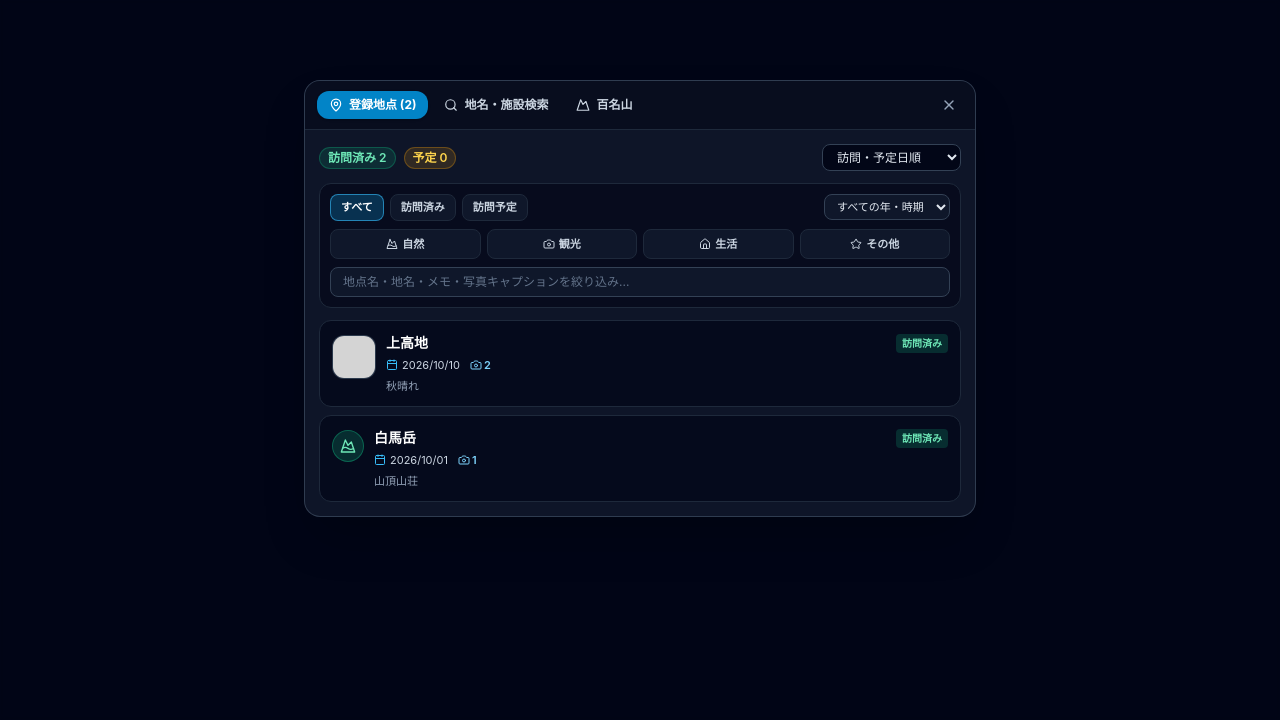
Phase 2 photo UI components › shows local cover thumbnails & photo count badges in SpotNavDrawer without network calls, and filters by caption
This screenshot has width=1280, height=720.
Check: the text "2" is shown, box [484, 357, 491, 374]
Check: the text "1" is shown, box [472, 452, 477, 468]
Filter by photo caption
Step 1. Type "明神池" into the search field named "地点名・住所・メモ・写真キャプションで絞り込み" → point(640, 282), box [330, 267, 950, 297]
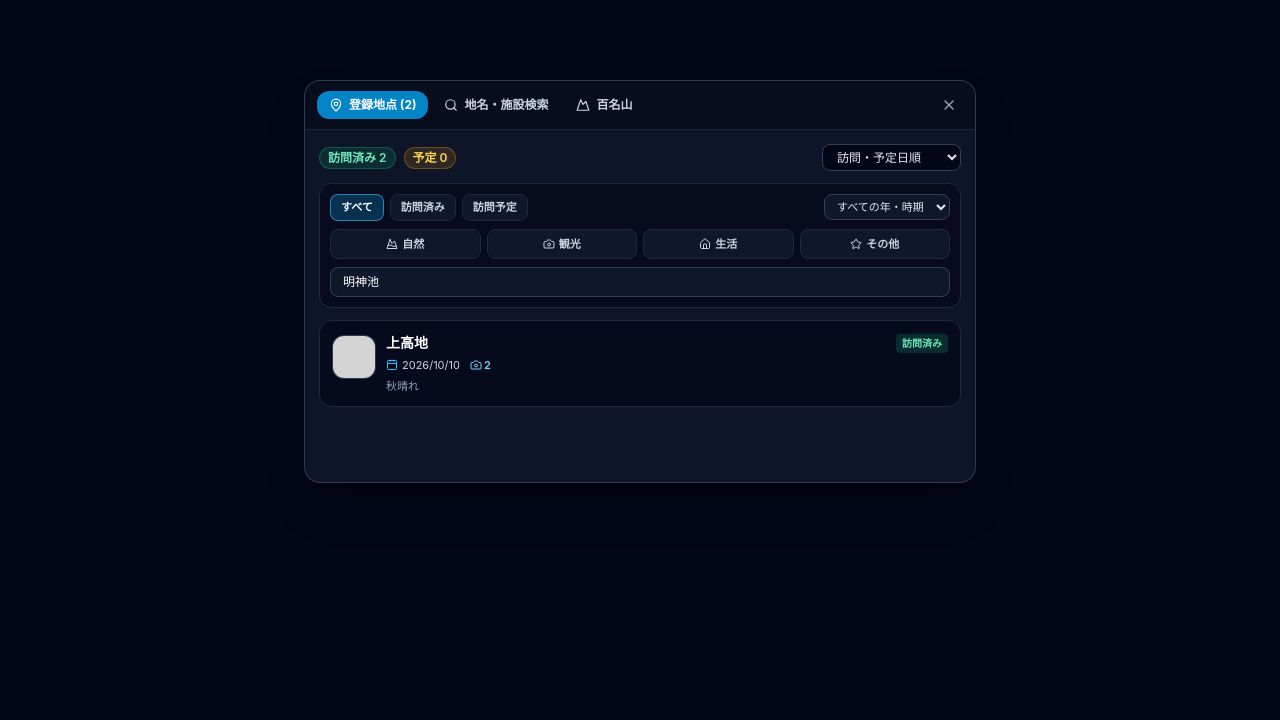
Check: the text "上高地" is shown, box [386, 333, 428, 353]
Check: the button "白馬岳" is gone
